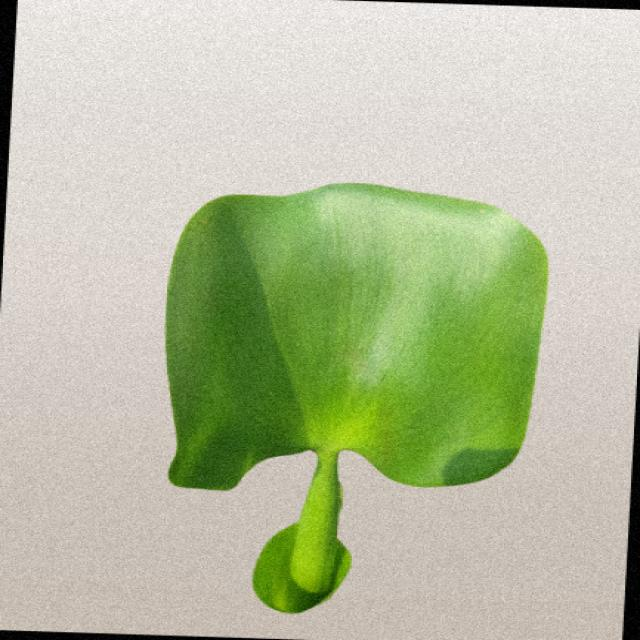daun sehat: (167, 184, 548, 612)
